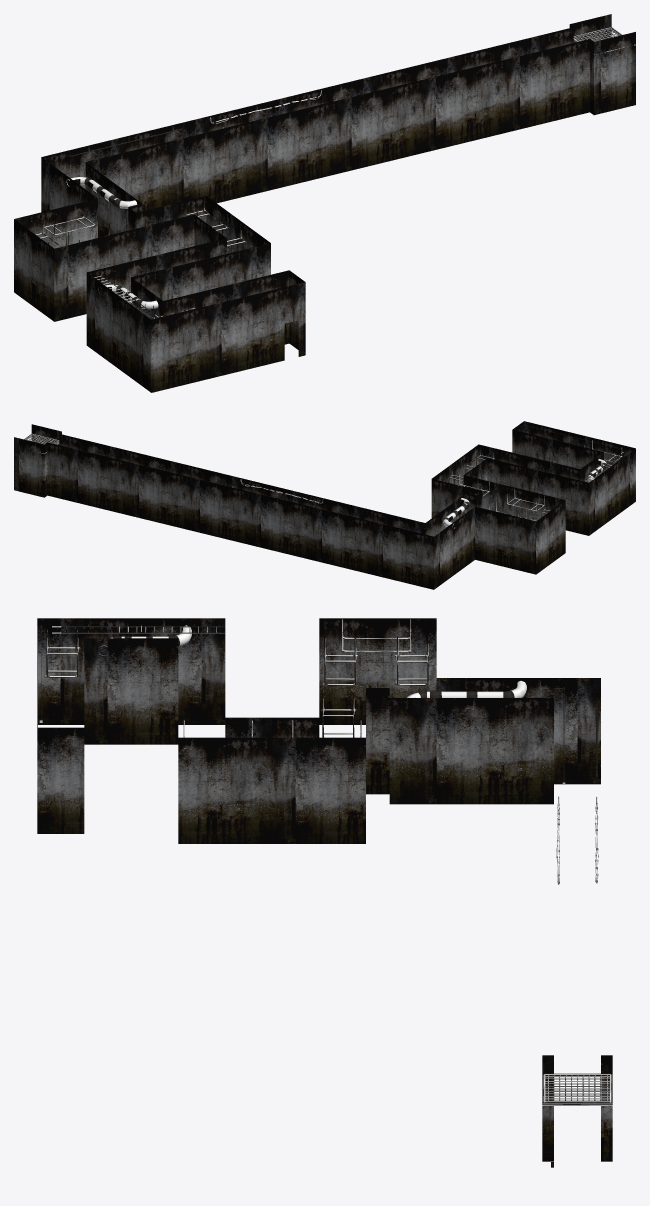
Rendered from room.obj.
3 views of the same model, one above another, from view 1: azimuth 30°, elevation 25°; view 2: azimuth 150°, elevation 25°; view 3: azimuth 270°, elevation 25° (orthographic). The views are drawn at different scales.
Visible parts, largest first — view 1: Group 1; view 2: Group 1; view 3: Group 1.
Part boxes in pixels (x1,y1,x2,y2): Group 1: (14, 14, 635, 392); Group 1: (14, 421, 635, 589); Group 1: (37, 618, 612, 1167).
Size of the model in its own units: 75.22 by 8.14 by 39.21.
Materials: 1 (1 with a texture image).
